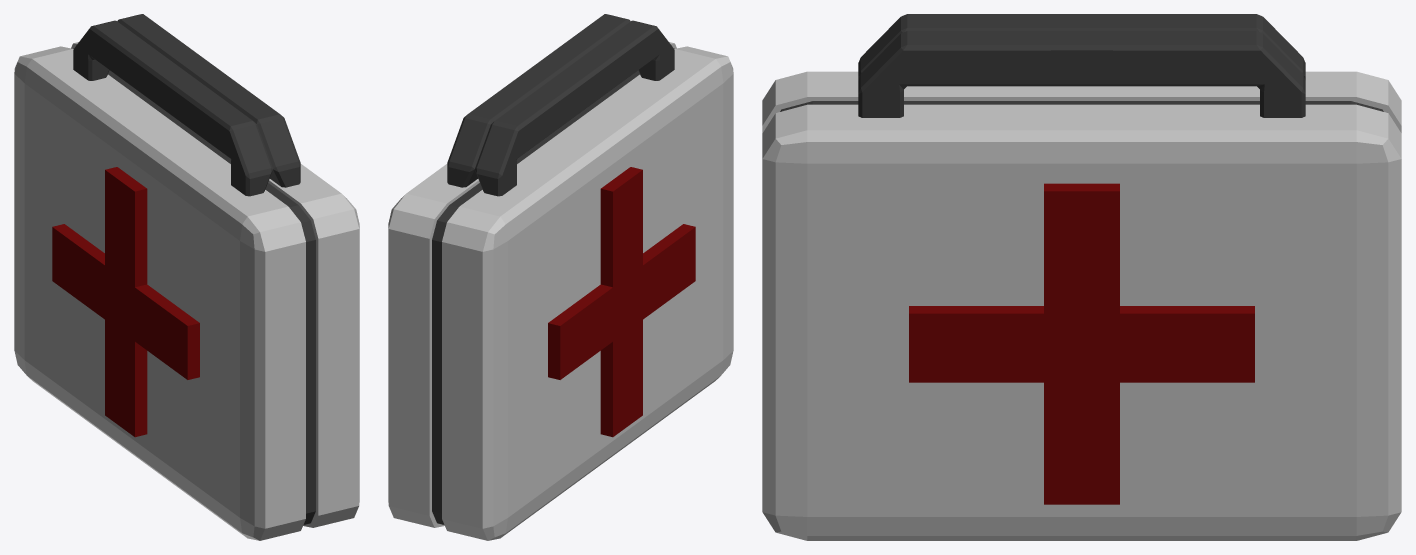
File: HealthPack.fbx
3 renders of one model, left to right at view 1: azimuth 30°, elevation 25°; view 2: azimuth 150°, elevation 25°; view 3: azimuth 270°, elevation 25°, orthographic. The views are drawn at different scales.
Parts seen in each view (by area): view 1: Cube.115; view 2: Cube.115; view 3: Cube.115.
Part boxes in pixels (x1,y1,x2,y2): Cube.115: (14,14,359,540); Cube.115: (388,14,733,540); Cube.115: (762,14,1401,540).
Bounding box in the file's own units: 15.4 × 41.5 × 49.84.
